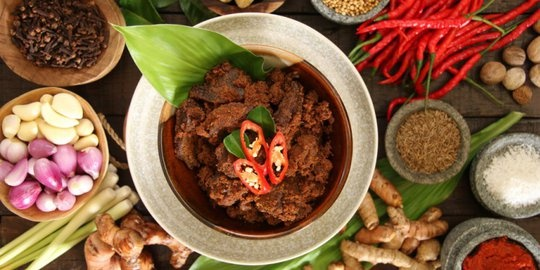rendang: (156, 69, 330, 224)
